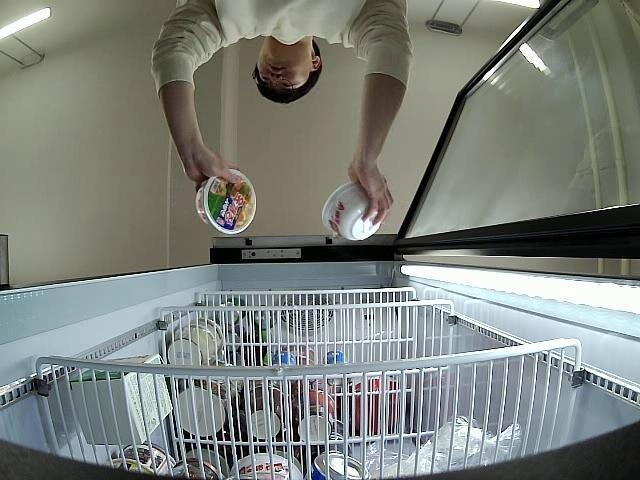09_yukGaeJang: (196, 170, 257, 233), (322, 180, 382, 240)
